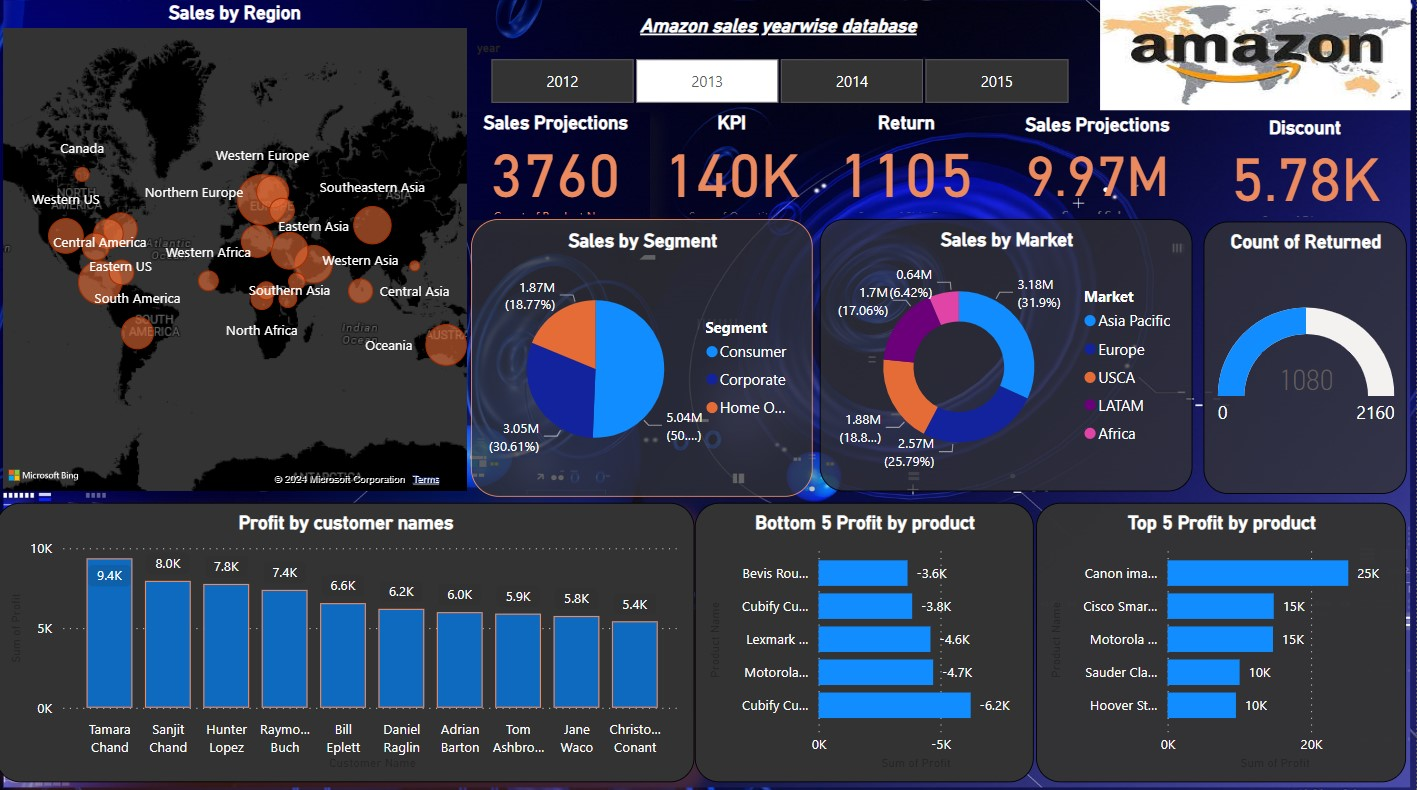

Layout of this report page (visuals, bound fields, positions):
{"tool":"powerbi","page":{"name":"Page 1","canvas":[1280,720],"ordinal":0},"visuals":[{"type":"image","box":[1.7,0,1278.3,720],"z":0},{"type":"image","box":[990,0,290,110],"z":1000},{"type":"slicer","title":"Amazon sales yearwise database","fields":{"Values":["Orders.year"]},"box":[420,18.3,570,86.7],"z":2000},{"type":"card","title":"Sales Projections ","fields":{"Values":["Orders.Sales"]},"box":[898.5,107.6,189.5,96.6],"z":3000},{"type":"card","title":"Sales Projections ","fields":{"Values":["Orders.Product Name"]},"box":[420.5,106.3,168.7,97.8],"z":4000},{"type":"card","title":"KPI","fields":{"Values":["Orders.Quantity"]},"box":[583.1,106.3,161.4,97.8],"z":5000},{"type":"card","title":"Return","fields":{"Values":["Orders.Ship Date"]},"box":[744,106,154,96],"z":6000},{"type":"pieChart","title":"Sales by Segment","fields":{"Category":["Orders.Segment"],"Y":["Orders.Sales"]},"box":[428.3,203.3,308.3,250],"z":7000},{"type":"donutChart","title":"Sales by Market","fields":{"Category":["Orders.Market"],"Y":["Orders.Sales"]},"box":[742,202.9,336.2,245.7],"z":8000},{"type":"columnChart","title":"Profit by customer names","fields":{"Category":["Orders.Customer Name"],"Y":["Orders.Profit"]},"box":[0,458.4,629.5,251.8],"z":9000},{"type":"barChart","title":"Bottom 5 Profit by product","fields":{"Category":["Orders.Product Name"],"Y":["Orders.Profit"]},"box":[629.5,458.4,305.6,251.8],"z":10000},{"type":"barChart","title":"Top 5 Profit by product","fields":{"Category":["Orders.Product Name"],"Y":["Orders.Profit"]},"box":[937.6,458.4,333.7,251.8],"z":11000},{"type":"map","title":"Sales by Region","fields":{"Category":["Orders.Region"],"Size":["Orders.Sales"]},"box":[1.7,6.7,428.3,446.7],"z":12000},{"type":"gauge","title":"Count of Returned","fields":{"Y":["Returns.Returned"],"TargetValue":["Orders.Discount"]},"box":[1087.9,205.4,183.4,245.7],"z":13000},{"type":"card","title":"Discount","fields":{"Values":["Orders.Discount"]},"box":[1097.7,110,165,95.3],"z":14000}]}

Visuals, with their boxes in screenshot pixels (x1, y1, x2, y2), scaled from the page's 1280x720 canvas onto the 1417x790 screenshot:
image: (2,0,1416,789)
image: (1096,0,1416,121)
"Amazon sales yearwise database" slicer: (465,20,1096,115)
"Sales Projections " card: (995,118,1204,224)
"Sales Projections " card: (466,117,652,224)
"KPI" card: (646,117,824,224)
"Return" card: (824,116,994,222)
"Sales by Segment" pieChart: (474,223,815,497)
"Sales by Market" donutChart: (821,223,1194,492)
"Profit by customer names" columnChart: (0,503,697,779)
"Bottom 5 Profit by product" barChart: (697,503,1035,779)
"Top 5 Profit by product" barChart: (1038,503,1407,779)
"Sales by Region" map: (2,7,476,497)
"Count of Returned" gauge: (1204,225,1407,495)
"Discount" card: (1215,121,1398,225)
